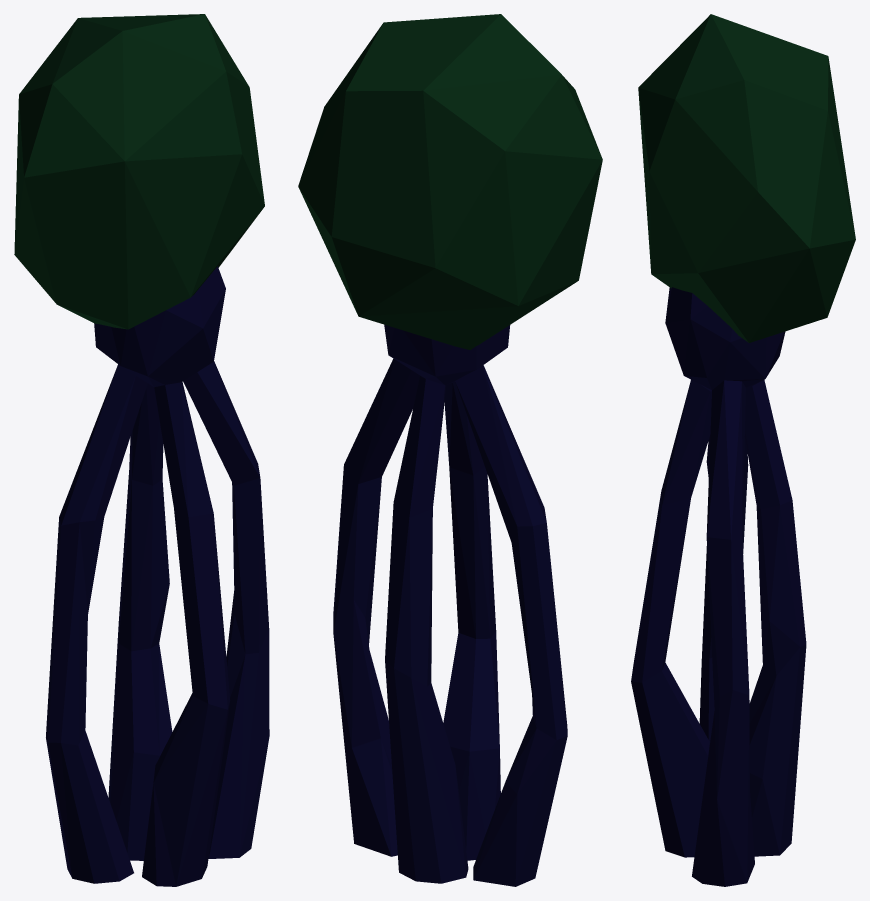
File: Asset3Alive.fbx
3 views of the same model, side by side, from view 1: azimuth 30°, elevation 25°; view 2: azimuth 150°, elevation 25°; view 3: azimuth 270°, elevation 25° (orthographic). The views are drawn at different scales.
Visible parts, largest first — view 1: BezierCurve.006, Fulles.001; view 2: BezierCurve.006, Fulles.001; view 3: BezierCurve.006, Fulles.001.
Part boxes in pixels (bbox=[...]): BezierCurve.006: bbox=[46, 266, 269, 886]; Fulles.001: bbox=[14, 14, 264, 329]; BezierCurve.006: bbox=[333, 324, 567, 886]; Fulles.001: bbox=[298, 14, 602, 349]; BezierCurve.006: bbox=[631, 287, 806, 886]; Fulles.001: bbox=[638, 14, 855, 342].
Bounding box in the file's own units: 279 × 884 × 222.
